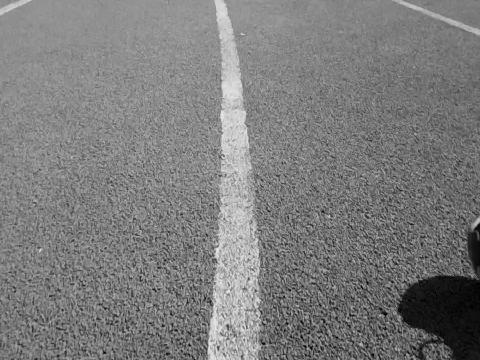Lines: (206, 0, 262, 360)
